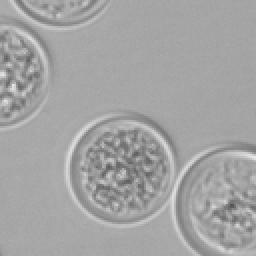picoshell: (64, 112, 176, 226), (170, 144, 254, 254), (0, 24, 50, 130), (8, 0, 110, 28)
